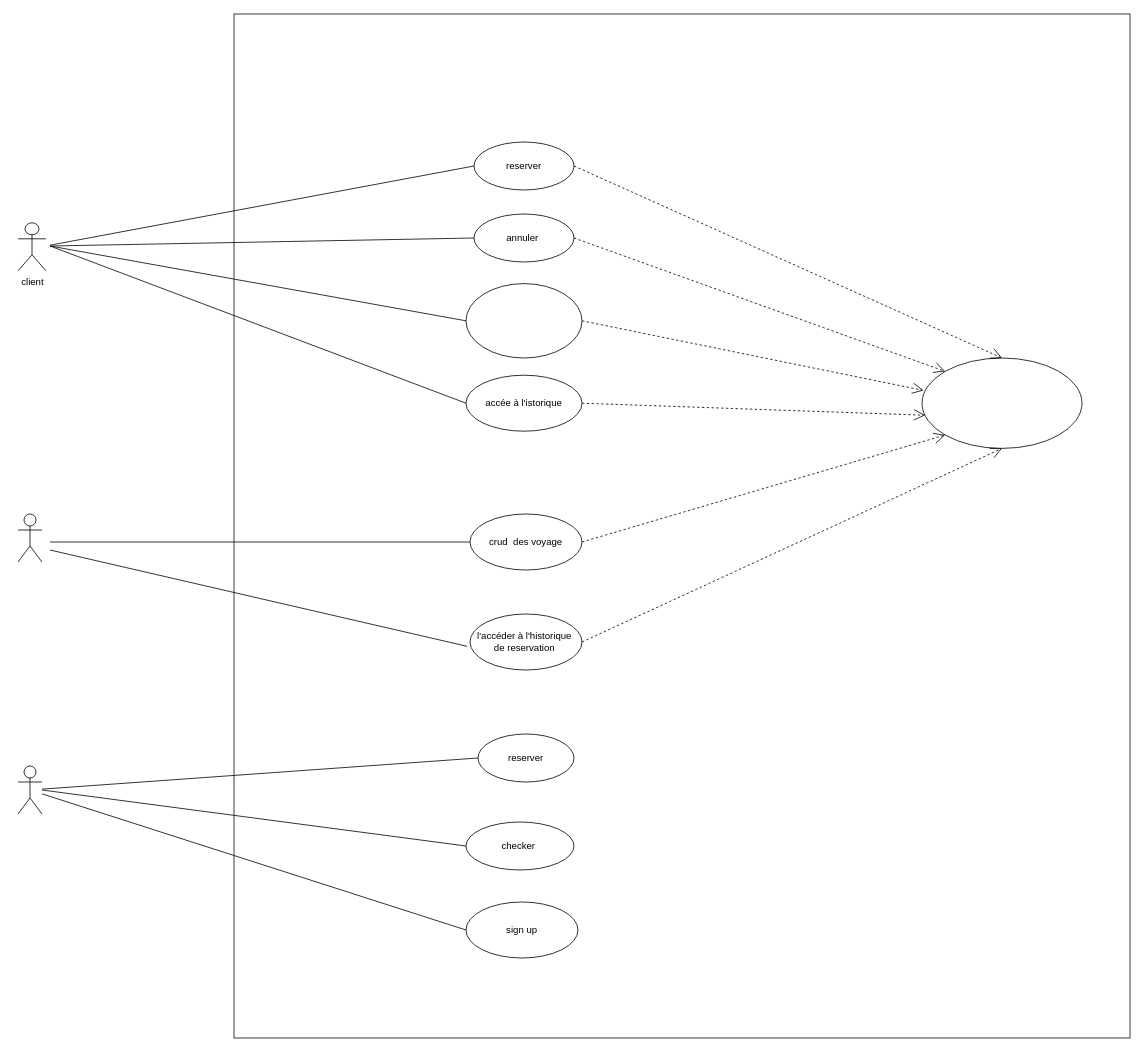
Image size: 1144x1052. Some labels were removed from this diagram. The centre of each missing label's shape, as x and y in pixels:
admin: point (29, 537)
crud des info: point (523, 320)
sign in: point (1001, 402)
viisiteur: point (29, 789)
